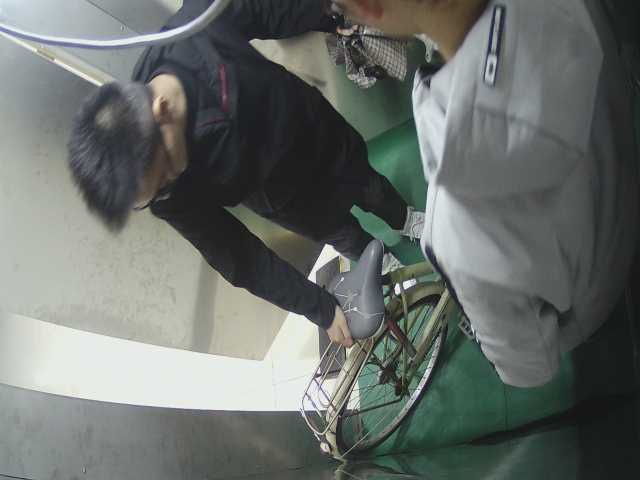bicycle: (311, 217, 479, 469)
person: (76, 13, 400, 351), (348, 1, 635, 372)
